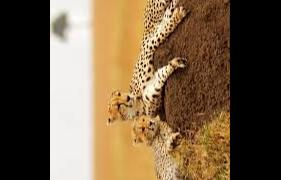Non_Gorille: (69, 0, 207, 180)
